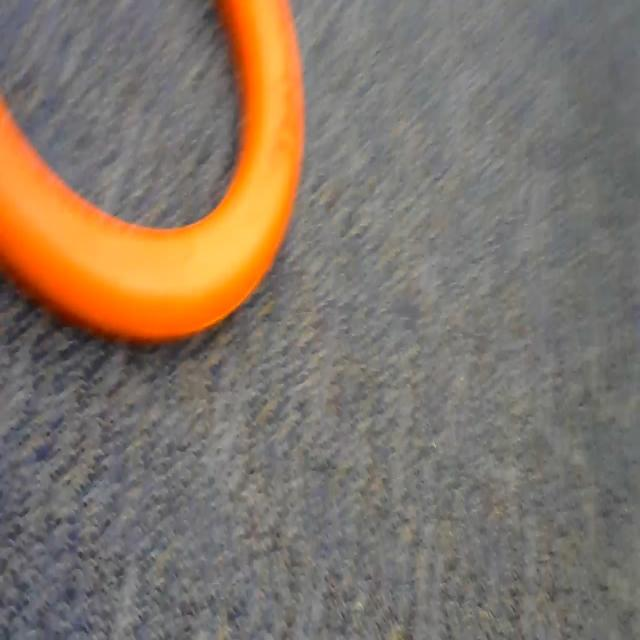note: (0, 0, 321, 360)
